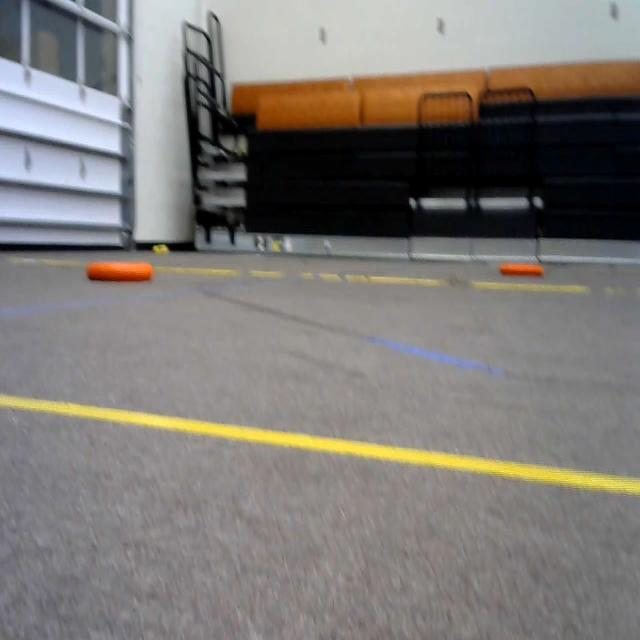note: (79, 258, 160, 296), (498, 256, 545, 276)
